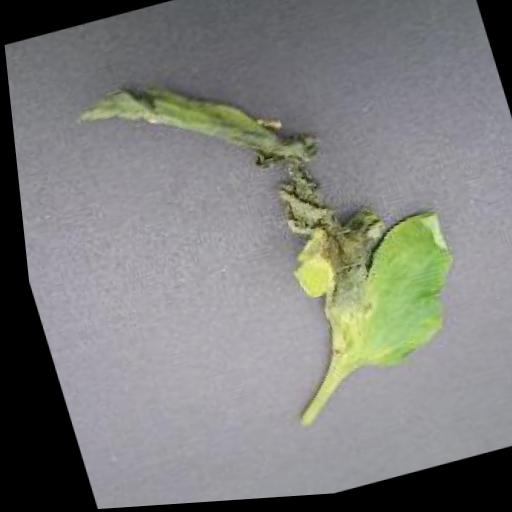Late Blight: (60, 12, 481, 436)
